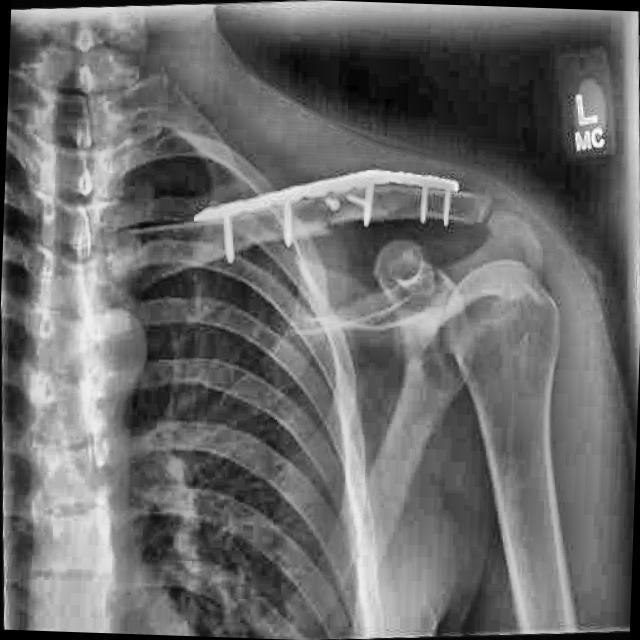shoulder fracture: (299, 207, 351, 249), (373, 192, 411, 237)
